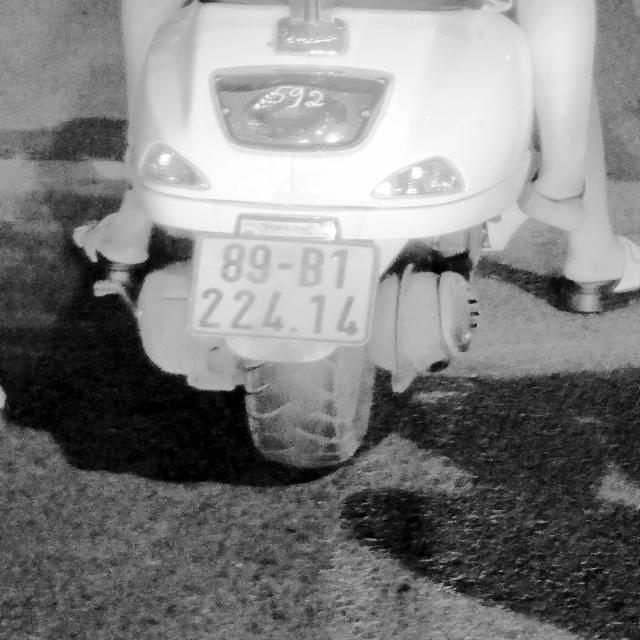license_plate: (189, 234, 381, 344)
